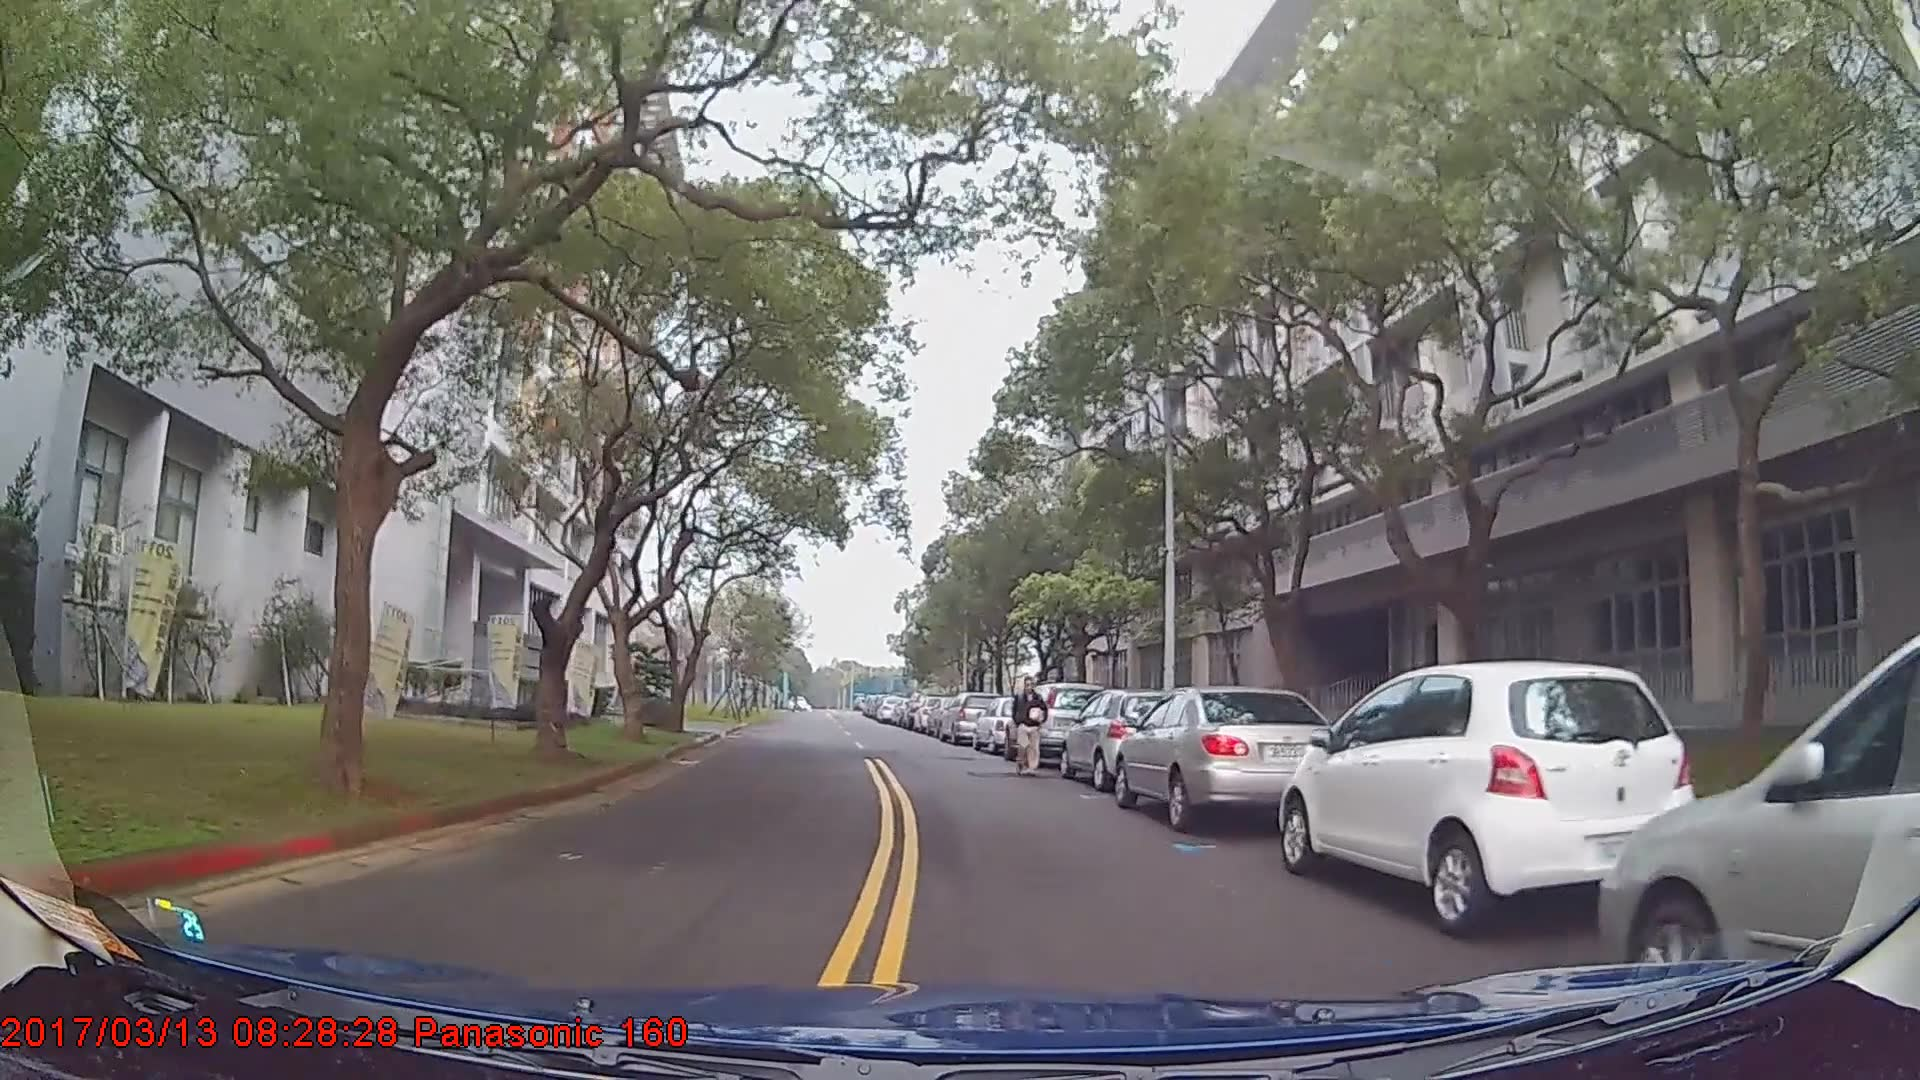pedestrian: (1014, 676, 1050, 779)
vehicle: (1596, 645, 1920, 1021), (1281, 657, 1703, 940), (1112, 684, 1342, 831), (1059, 686, 1193, 790), (1005, 680, 1109, 768), (971, 693, 1038, 755), (939, 691, 1004, 745)
